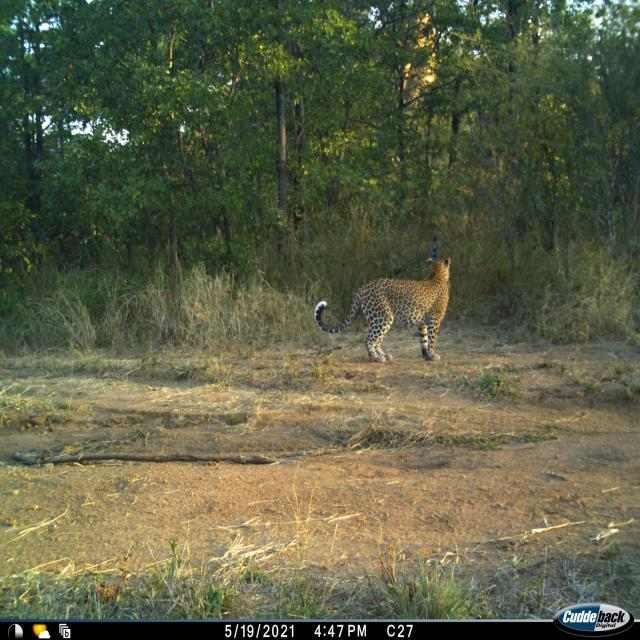Leopard: (315, 255, 454, 372)
